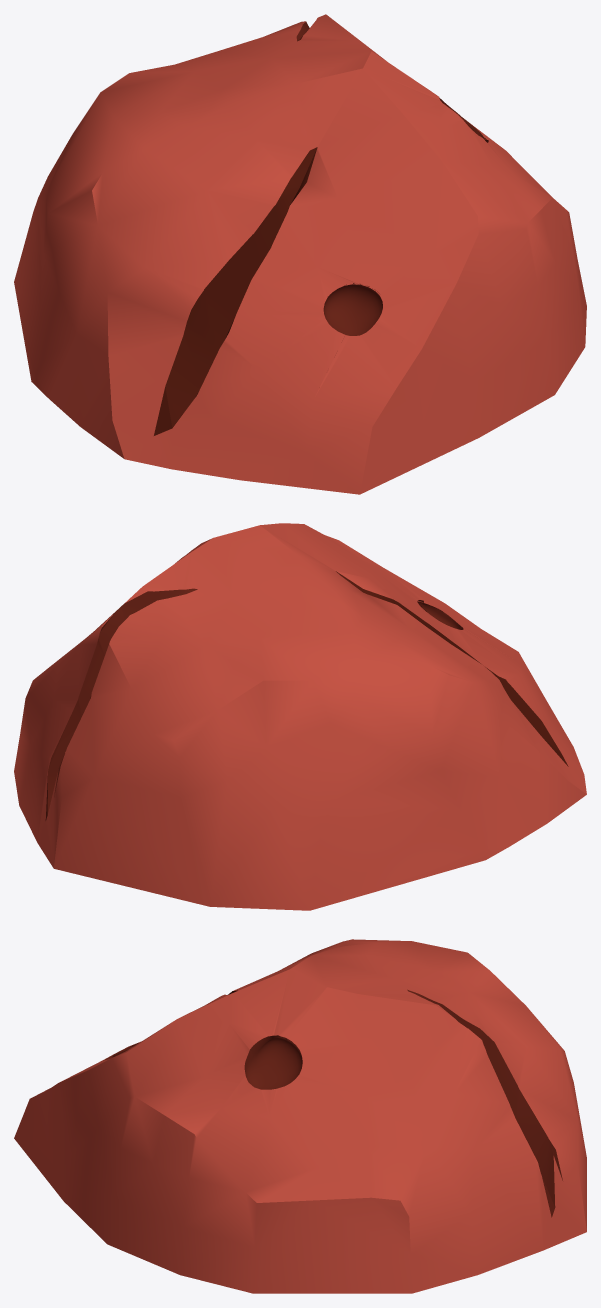
The model's file is coral_crumb.glb.
3 views of the same model, one above another, from view 1: azimuth 30°, elevation 25°; view 2: azimuth 150°, elevation 25°; view 3: azimuth 270°, elevation 25° (orthographic). The views are drawn at different scales.
Parts seen in each view (by area): view 1: coral_crumb; view 2: coral_crumb; view 3: coral_crumb.
Part boxes in pixels (x1,y1,x2,y2): coral_crumb: [14, 14, 586, 494]; coral_crumb: [14, 523, 586, 910]; coral_crumb: [14, 939, 586, 1293].
Size of the model in its own units: 7 by 3.61 by 7.88.
